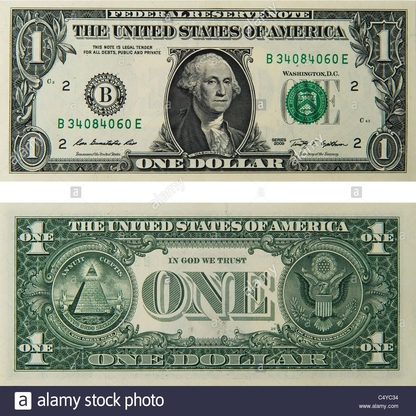one-back: (2, 204, 416, 384)
one-front: (1, 1, 416, 182)
